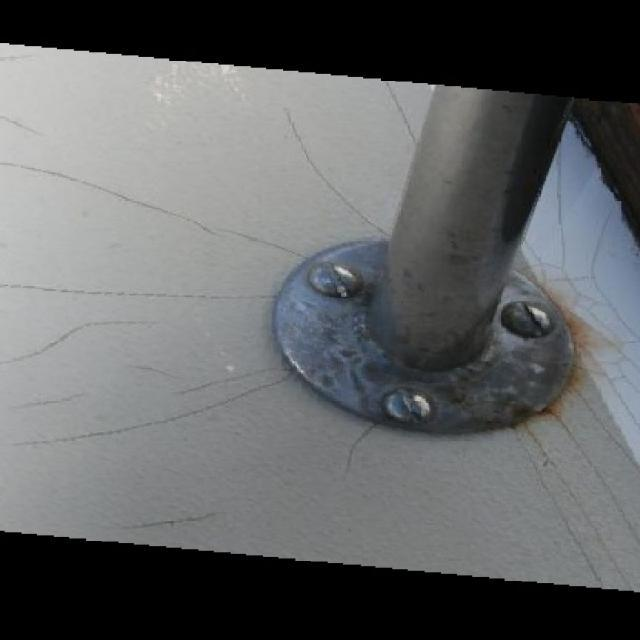crack: (269, 136, 391, 241), (2, 315, 155, 368), (310, 412, 395, 494), (201, 221, 312, 275), (120, 498, 248, 536), (170, 354, 289, 394), (112, 366, 188, 395), (20, 390, 88, 410)
